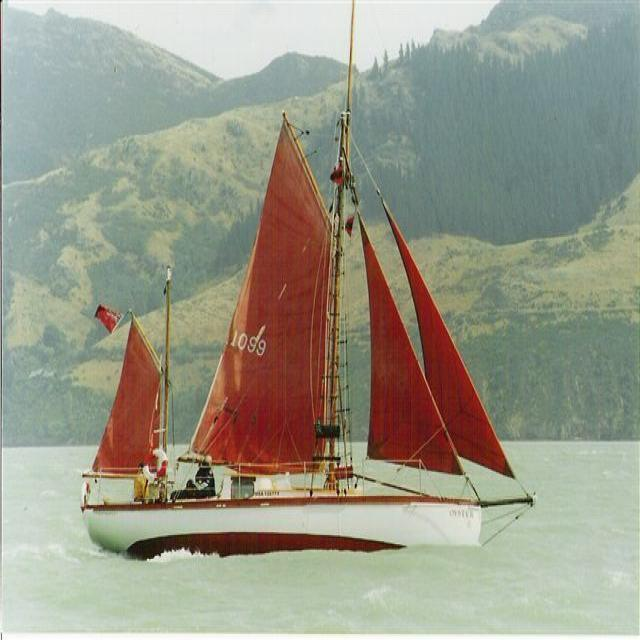Ship: (80, 103, 530, 558)
